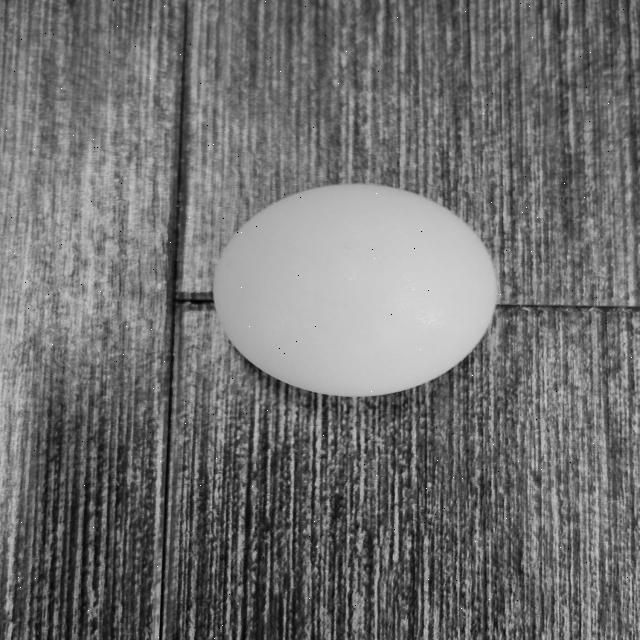ping-pong-ball: (210, 175, 506, 413)
